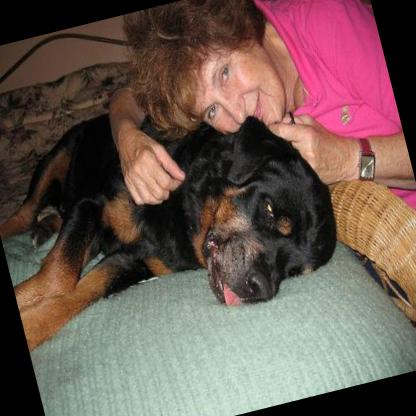Rottweiler: (0, 64, 349, 360)
